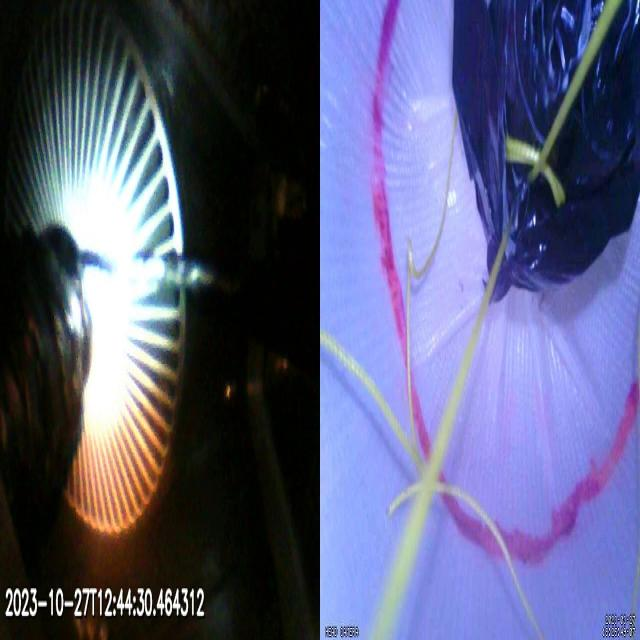red-circle: (371, 4, 640, 566)
